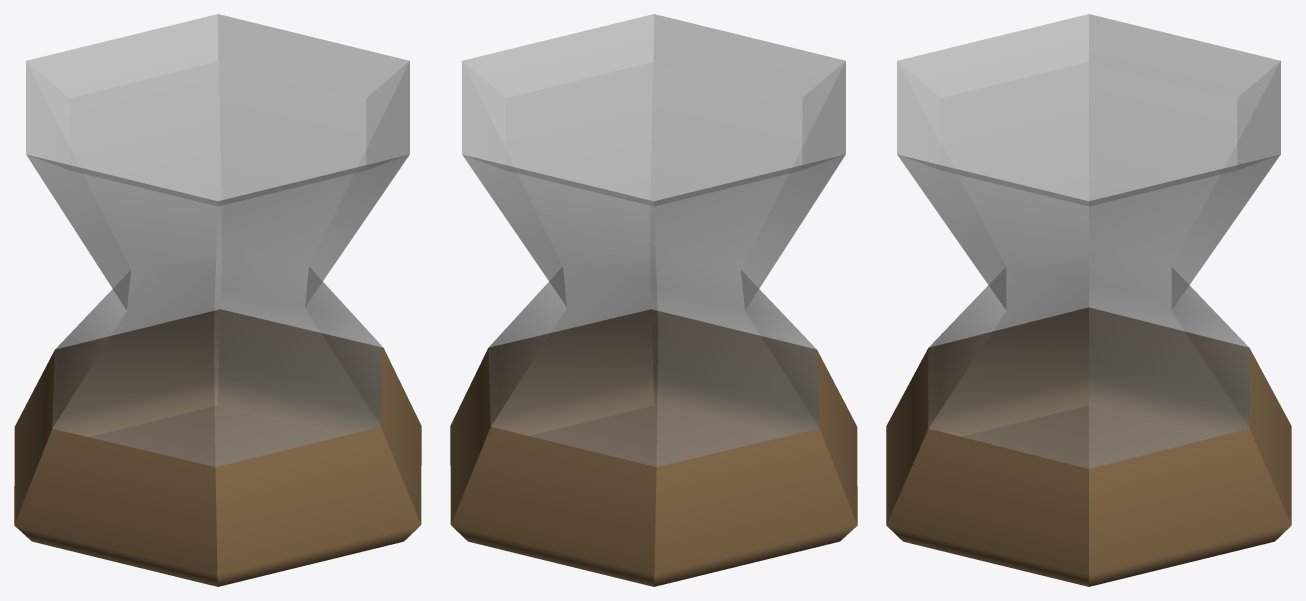
The model's file is drip_brew.fbx.
The picture shows the model from 3 angles, left to right: view 1: azimuth 30°, elevation 25°; view 2: azimuth 150°, elevation 25°; view 3: azimuth 270°, elevation 25°; orthographic projection.
Parts seen in each view (by area): view 1: dripper1; view 2: dripper1; view 3: dripper1.
Boxes of the visible parts, x1,y1,x2,y2 form: dripper1: (14,14,421,586); dripper1: (450,14,857,586); dripper1: (886,14,1291,586).
Size of the model in its own units: 0.5128 by 0.4674 by 0.4418.
